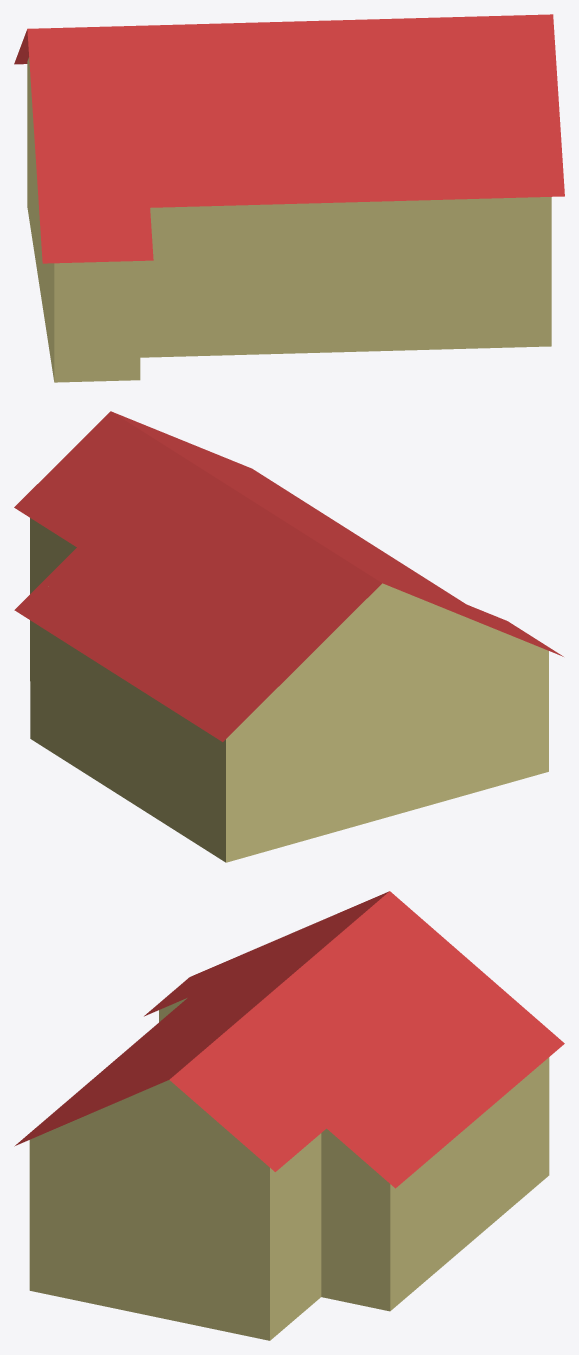
The picture shows the model from 3 angles, top to bottom: view 1: azimuth 30°, elevation 25°; view 2: azimuth 150°, elevation 25°; view 3: azimuth 270°, elevation 25°; orthographic projection. The views are drawn at different scales.
Bounding box in the file's own units: 37.99 × 35 × 17.21.
